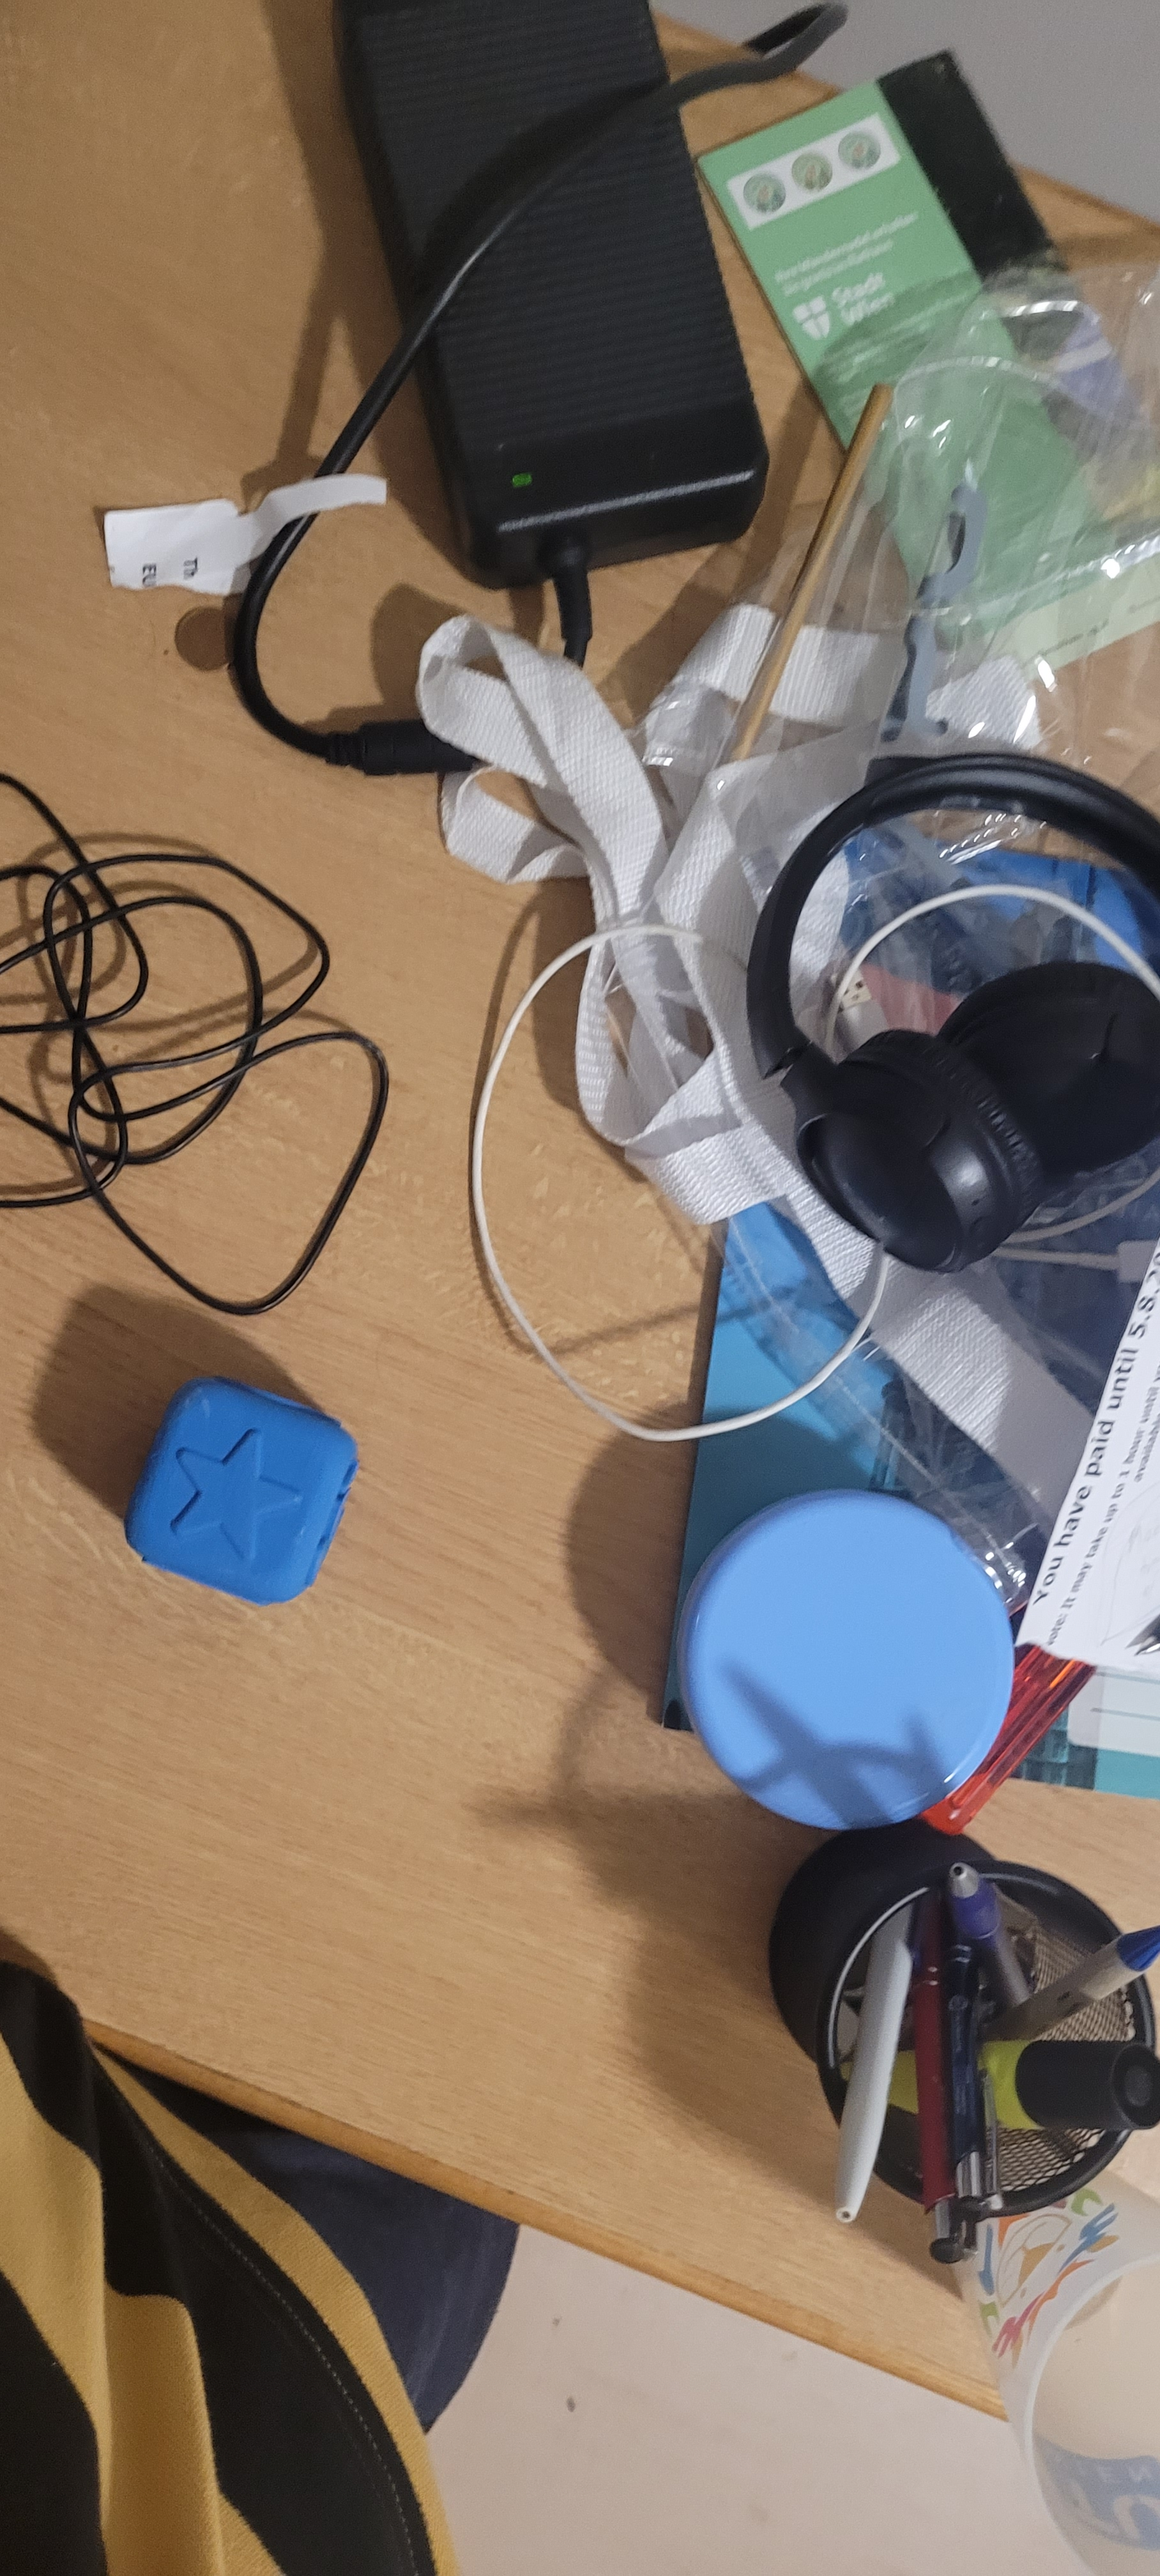Star: (151, 1364, 327, 1575)
